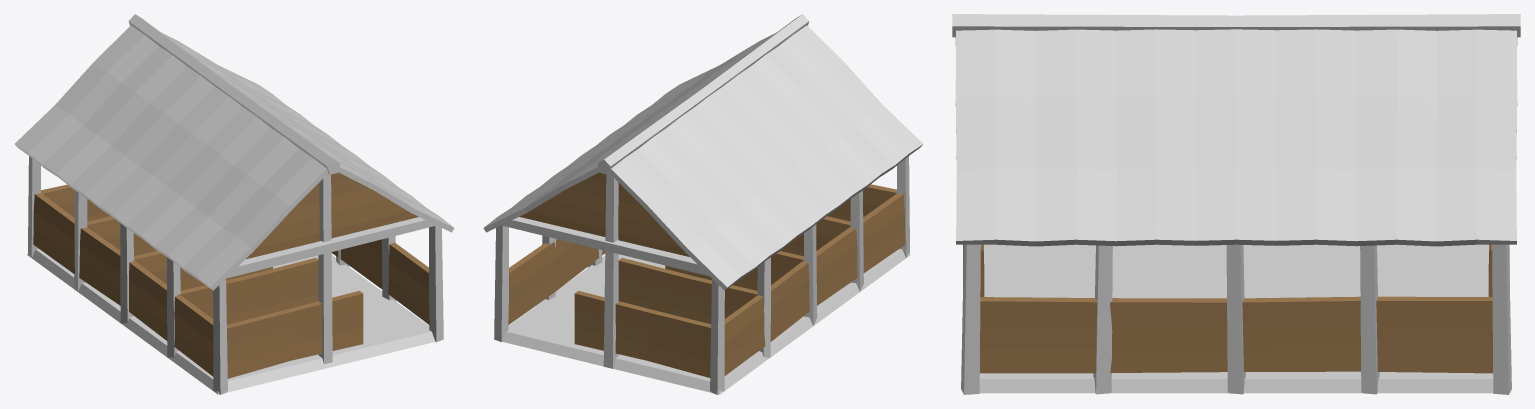
File: stables.fbx
The picture shows the model from 3 angles, left to right: view 1: azimuth 30°, elevation 25°; view 2: azimuth 150°, elevation 25°; view 3: azimuth 270°, elevation 25°; orthographic projection. The views are drawn at different scales.
Visible parts, largest first — view 1: stables; view 2: stables; view 3: stables.
Boxes of the visible parts, <box> form: stables: <box>15,14,454,394</box>; stables: <box>483,14,922,394</box>; stables: <box>952,14,1520,394</box>.
Size of the model in its own units: 5.69 by 4.7 by 8.03.
